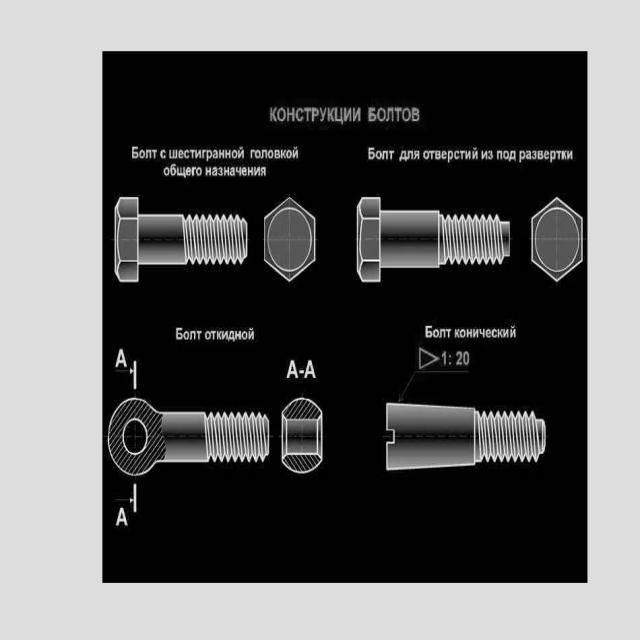marking_line: (399, 369, 469, 402), (113, 360, 141, 392), (115, 483, 138, 513)
numeric: (463, 349, 470, 366), (456, 350, 462, 366), (442, 349, 447, 367)
special_symbol: (418, 348, 439, 368), (447, 353, 453, 365)
